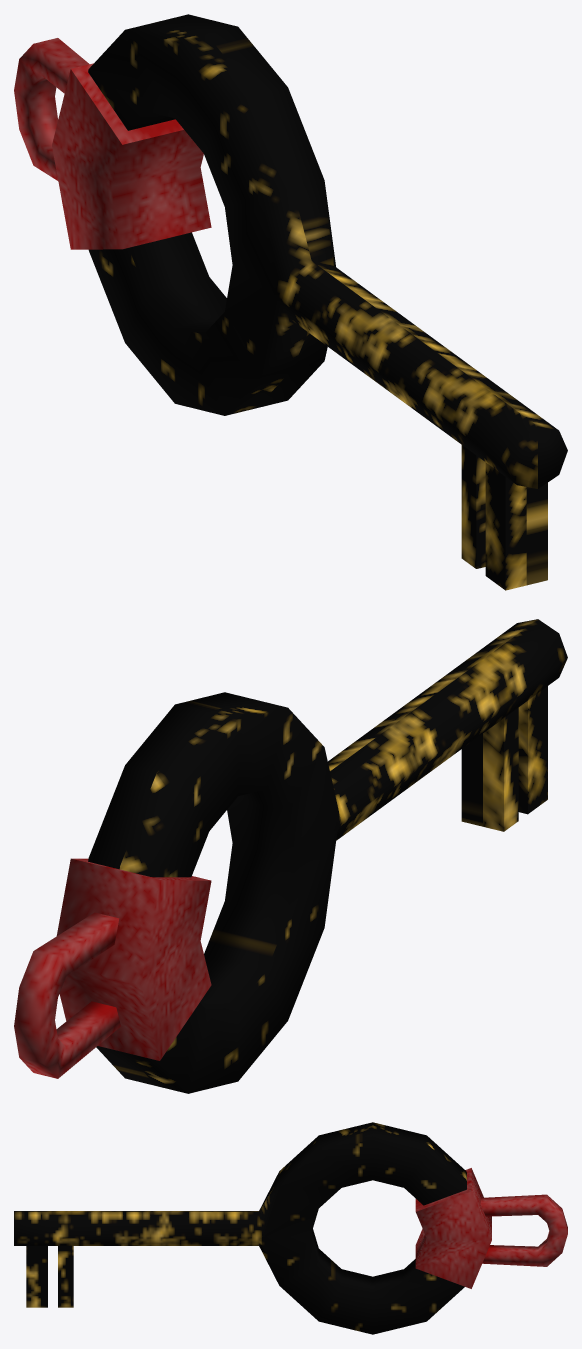
File: key.fbx
The picture shows the model from 3 angles, top to bottom: view 1: azimuth 30°, elevation 25°; view 2: azimuth 150°, elevation 25°; view 3: azimuth 270°, elevation 25°; orthographic projection. The views are drawn at different scales.
Visible parts, largest first — view 1: polySurface35; view 2: polySurface35; view 3: polySurface35.
Part boxes in pixels (x1,y1,x2,y2): polySurface35: (14, 14, 567, 590); polySurface35: (14, 619, 567, 1093); polySurface35: (14, 1122, 567, 1334).
Bounding box in the file's own units: 0.089 × 0.3448 × 0.8846.
Materials: 1 (1 with a texture image).
